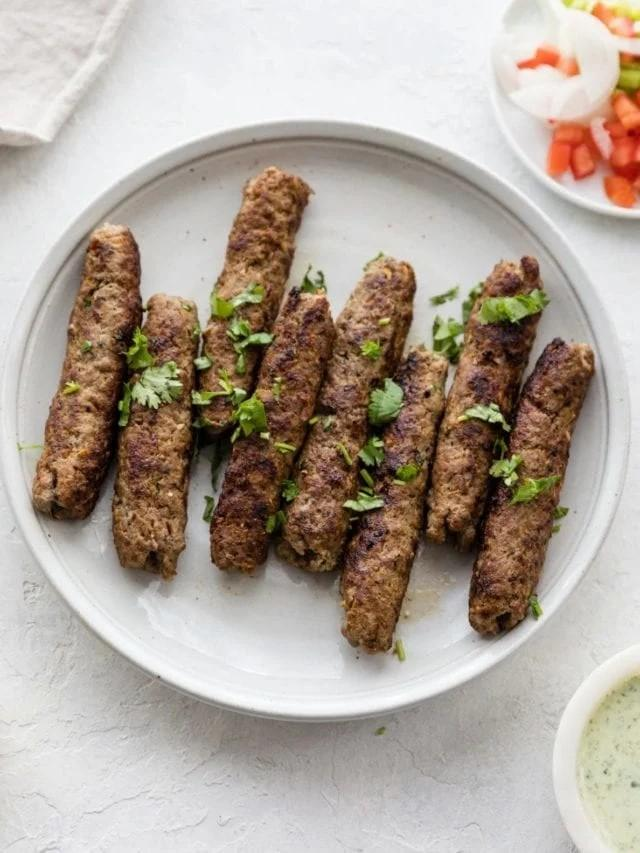Kebab: (275, 253, 418, 574), (467, 336, 595, 638), (210, 288, 337, 578), (424, 255, 546, 550), (337, 349, 449, 654), (30, 228, 141, 523), (197, 166, 316, 439), (114, 293, 201, 582)
